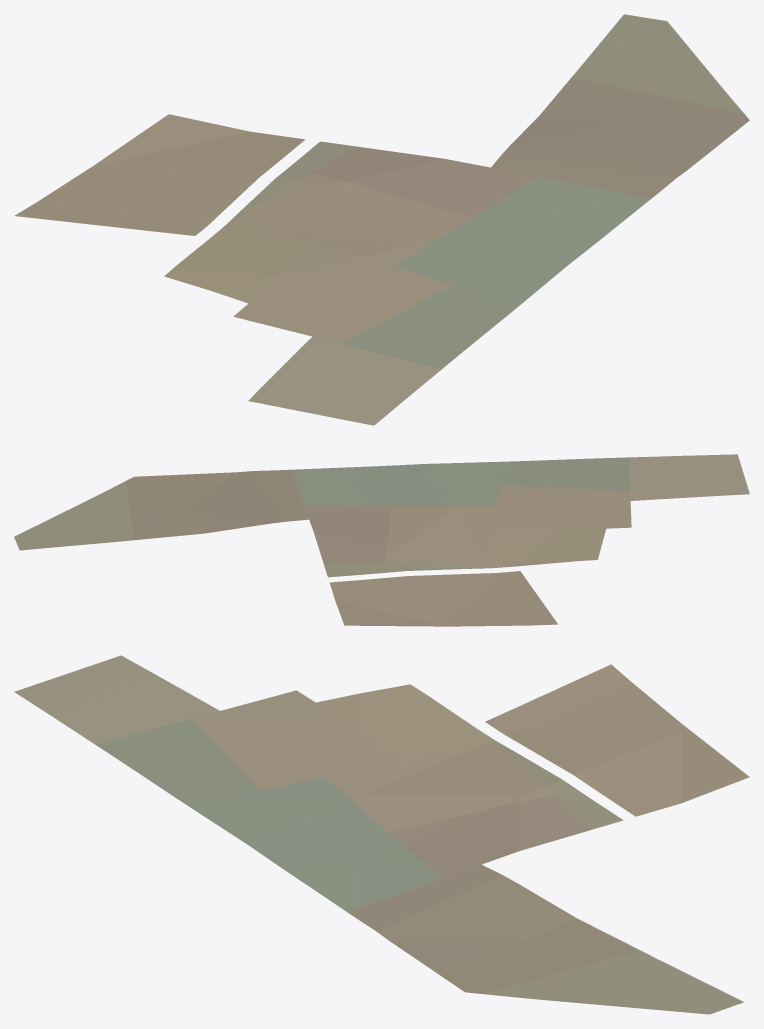
The model's file is farm_5_9_soil.glb.
The picture shows the model from 3 angles, top to bottom: view 1: azimuth 30°, elevation 25°; view 2: azimuth 150°, elevation 25°; view 3: azimuth 270°, elevation 25°; orthographic projection. The views are drawn at different scales.
Visible parts, largest first — view 1: geometry_0; view 2: geometry_0; view 3: geometry_0.
Part boxes in pixels (x1,y1,x2,y2): geometry_0: (14,14,749,425); geometry_0: (14,454,749,626); geometry_0: (14,655,749,1014).
Bounding box in the file's own units: 402 × 8.83 × 363.
